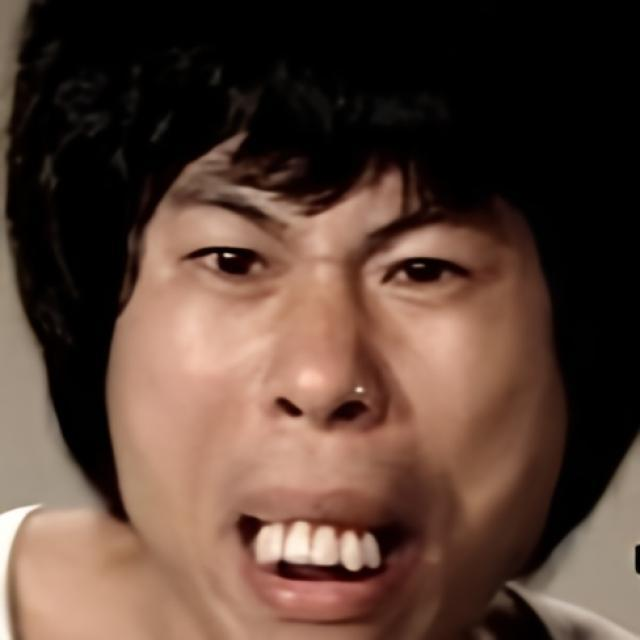disgust: (104, 122, 566, 640)
